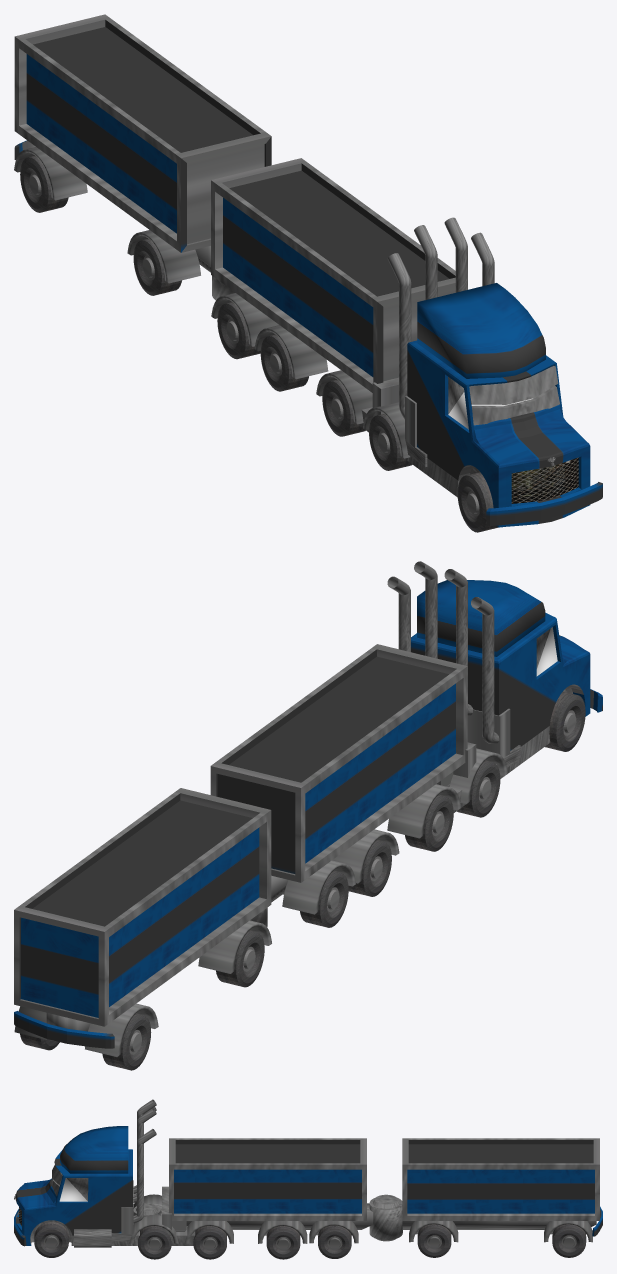
File: Truck 10.fbx
The picture shows the model from 3 angles, top to bottom: view 1: azimuth 30°, elevation 25°; view 2: azimuth 150°, elevation 25°; view 3: azimuth 270°, elevation 25°; orthographic projection. The views are drawn at different scales.
Visible parts, largest first — view 1: Cylinder; view 2: Cylinder; view 3: Cylinder.
Boxes of the visible parts, x1,y1,x2,y2 form: Cylinder: [14, 14, 602, 532]; Cylinder: [14, 561, 602, 1070]; Cylinder: [14, 1099, 602, 1259].
Size of the model in its own units: 576 by 1111 by 4224.
